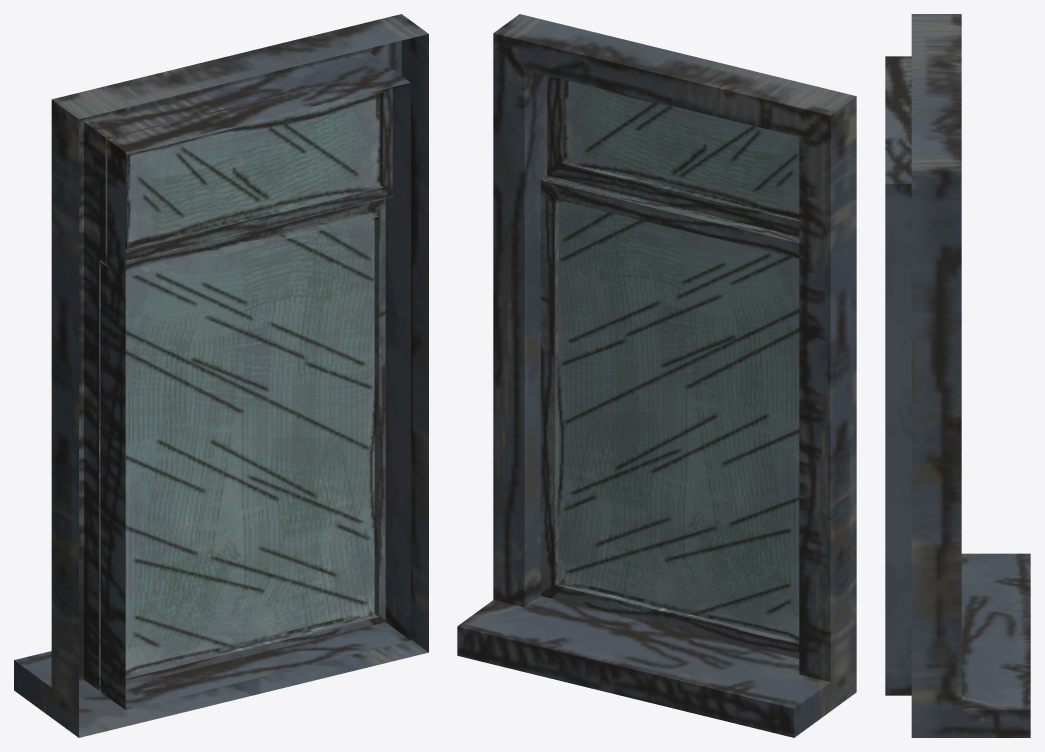
File: windowopen.fbx
3 views of the same model, side by side, from view 1: azimuth 30°, elevation 25°; view 2: azimuth 150°, elevation 25°; view 3: azimuth 270°, elevation 25° (orthographic). The views are drawn at different scales.
Visible parts, largest first — view 1: Window; view 2: Window; view 3: Window.
Part boxes in pixels (x1=…): Window: x1=14, y1=14, x2=428, y2=737; Window: x1=457, y1=14, x2=856, y2=737; Window: x1=885, y1=14, x2=1030, y2=737.
Bounding box in the file's own units: 106 × 179 × 41.56.
